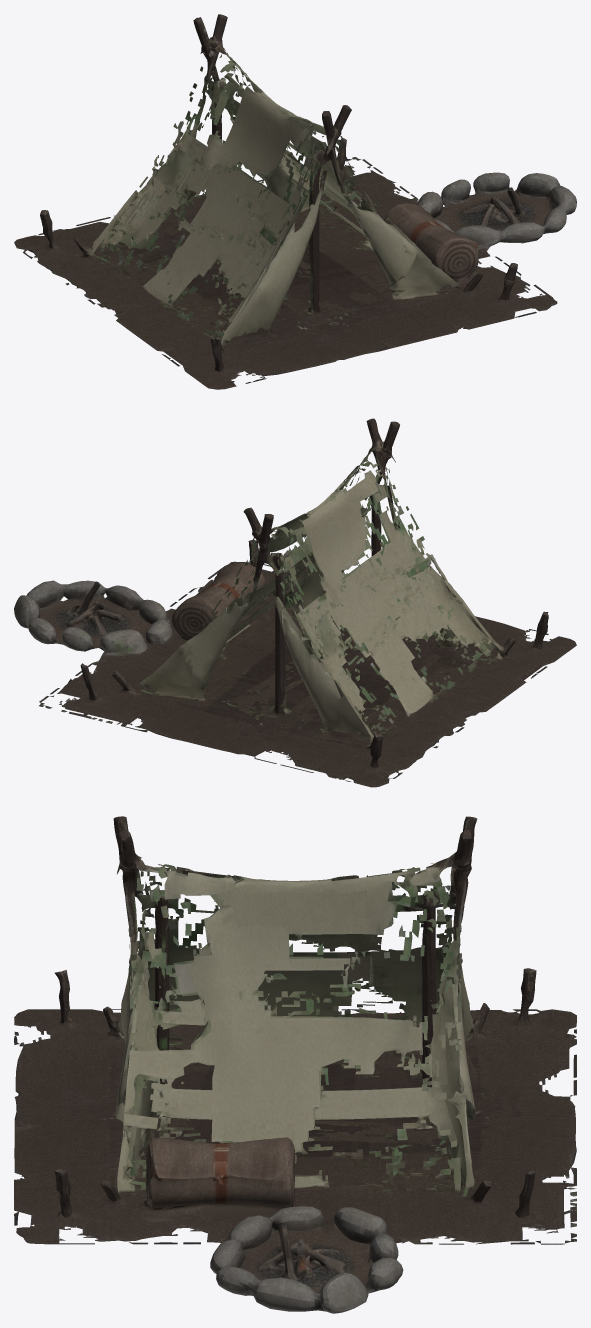
The model's file is wh-campkit-meshy.glb.
3 views of the same model, one above another, from view 1: azimuth 30°, elevation 25°; view 2: azimuth 150°, elevation 25°; view 3: azimuth 270°, elevation 25° (orthographic). The views are drawn at different scales.
Bounding box in the file's own units: 1.9 × 0.8498 × 1.46.
1 material, 1 textured.
